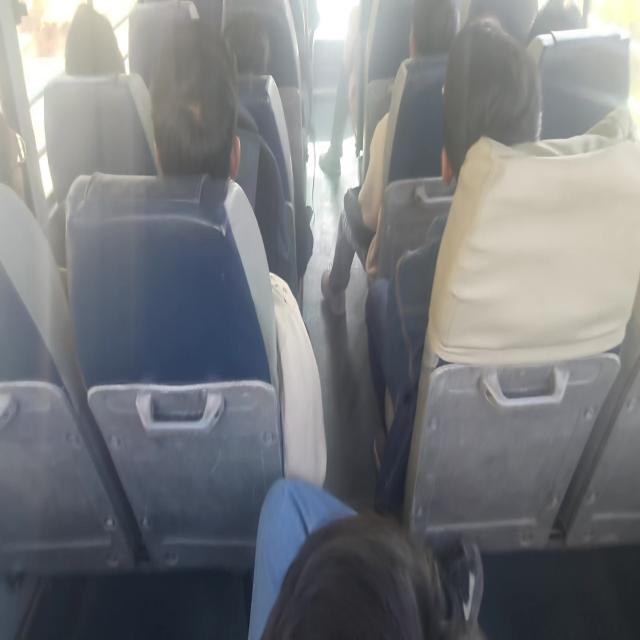person: (253, 506, 488, 640), (446, 27, 538, 200), (153, 40, 235, 184), (56, 0, 127, 77), (202, 17, 272, 87), (0, 92, 33, 212), (408, 0, 452, 65), (525, 0, 589, 44)
